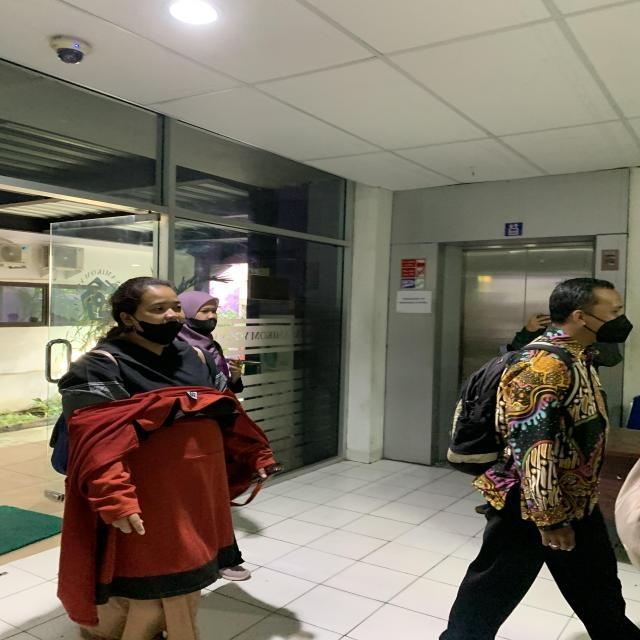hairnet: (547, 274, 640, 348), (113, 276, 192, 350), (192, 286, 223, 336)
